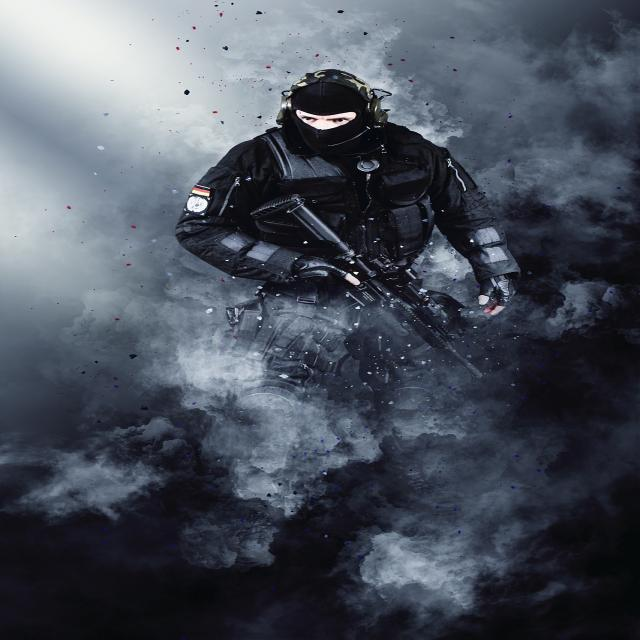Gun: (251, 194, 481, 377)
